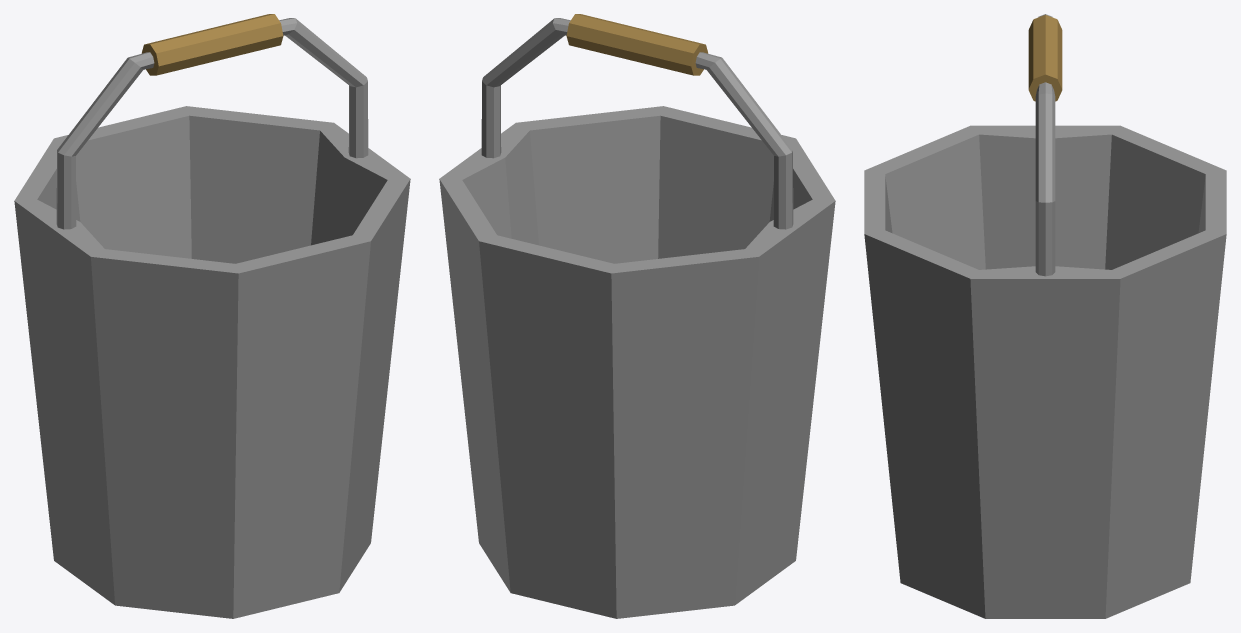
File: Bucket.fbx
3 renders of one model, left to right at view 1: azimuth 30°, elevation 25°; view 2: azimuth 150°, elevation 25°; view 3: azimuth 270°, elevation 25°, orthographic.
Parts seen in each view (by area): view 1: Cylinder; view 2: Cylinder; view 3: Cylinder.
Part boxes in pixels (x1=…): Cylinder: x1=14, y1=14, x2=410, y2=618; Cylinder: x1=439, y1=14, x2=835, y2=618; Cylinder: x1=864, y1=14, x2=1226, y2=618.
Bounding box in the file's own units: 46.19 × 72.17 × 46.19.
